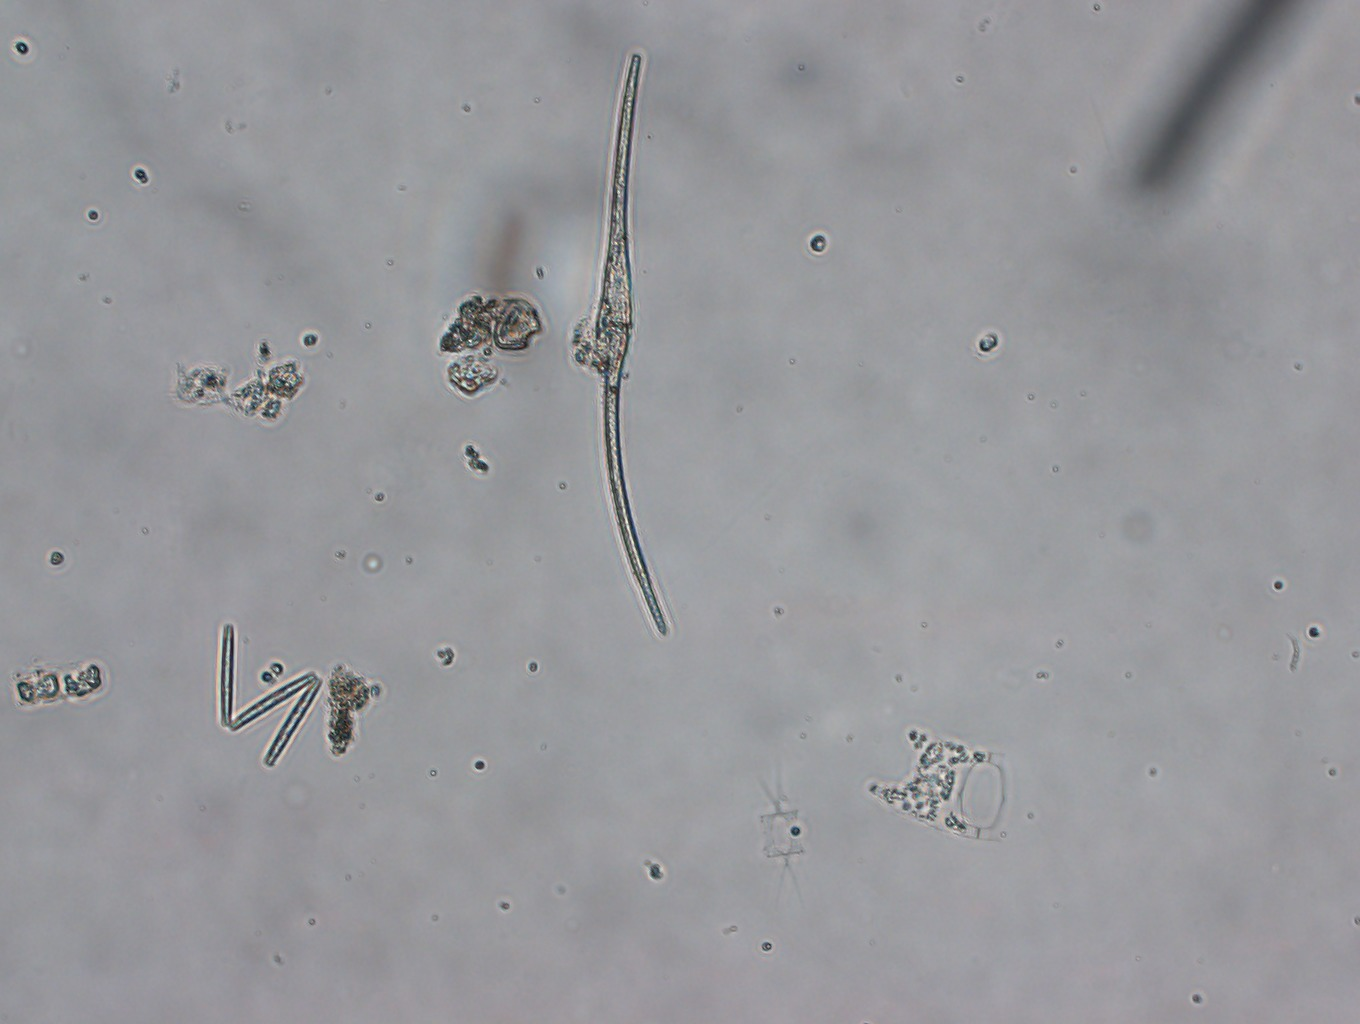ceratium fusus: (570, 52, 670, 634)
chaetoceros: (746, 762, 811, 909)
eucampia: (867, 728, 1016, 841)
thalassionema nitzschioides: (218, 623, 321, 769)
